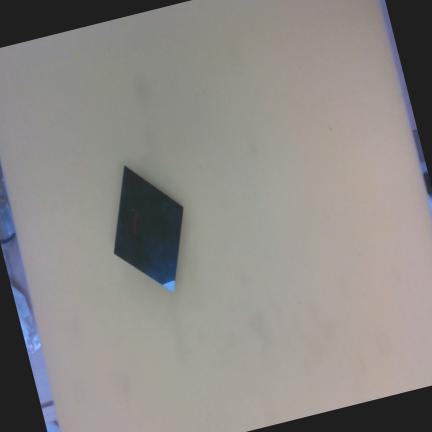tile: (110, 165, 187, 295)
